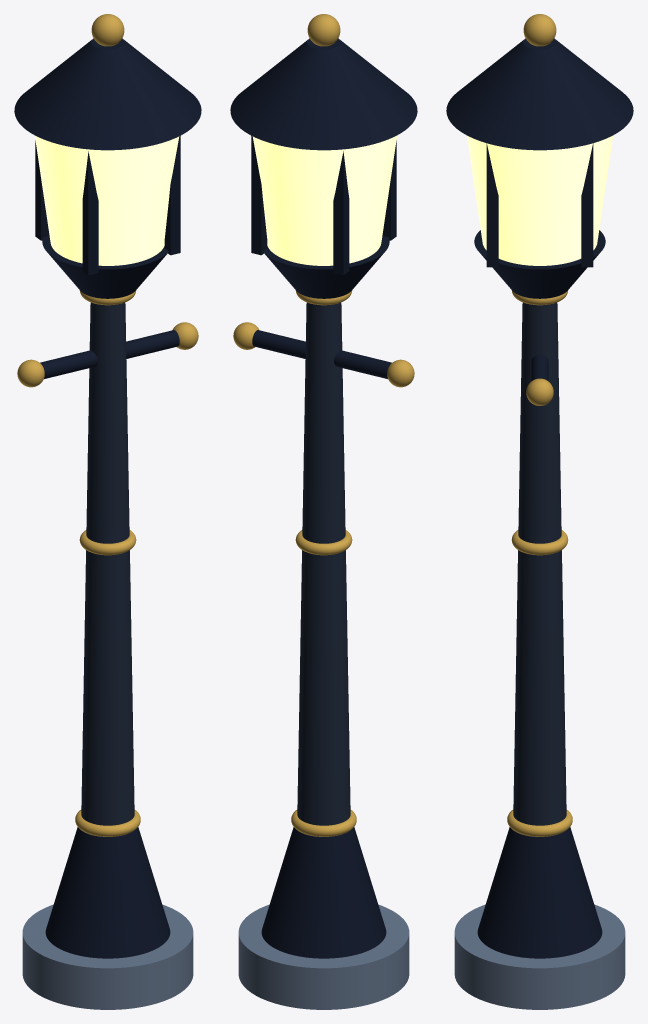
The model's file is street_lamp.glb.
3 views of the same model, side by side, from view 1: azimuth 30°, elevation 25°; view 2: azimuth 150°, elevation 25°; view 3: azimuth 270°, elevation 25° (orthographic).
Visible parts, largest first — view 1: pole, lantern_cap, lantern_glow, base, plinth, cradle, crossbar, lrib_2, lrib_3, lantern_finial, ring_0, lrib_1 (+3 smaller); view 2: pole, lantern_cap, lantern_glow, base, plinth, cradle, crossbar, lrib_1, lrib_0, lantern_finial, ring_0, lrib_2 (+3 smaller); view 3: pole, lantern_cap, lantern_glow, base, plinth, cradle, lrib_0, lrib_3, lantern_finial, ring_0, ring_1, cb_ball_R.
Boxes of the visible parts, box(x1,y1,x2,y2) form: pole: box(81, 302, 134, 825); lantern_cap: box(14, 38, 201, 150); lantern_glow: box(35, 135, 181, 265); base: box(45, 827, 170, 958); plinth: box(22, 904, 193, 1009); cradle: box(42, 236, 169, 298); crossbar: box(40, 330, 179, 378); lrib_2: box(82, 151, 98, 275); lrib_3: box(164, 136, 180, 255); lantern_finial: box(91, 14, 124, 46); ring_0: box(75, 809, 140, 836); lrib_1: box(35, 140, 49, 240); pole: box(297, 302, 350, 825); lantern_cap: box(230, 38, 417, 150); lantern_glow: box(250, 135, 396, 265); base: box(261, 827, 386, 958); plinth: box(238, 904, 409, 1009); cradle: box(262, 236, 389, 298); crossbar: box(252, 330, 391, 378); lrib_1: box(333, 151, 349, 275); lrib_0: box(251, 136, 267, 255); lantern_finial: box(307, 14, 340, 46); ring_0: box(291, 809, 356, 836); lrib_2: box(382, 140, 396, 240); pole: box(513, 302, 566, 825); lantern_cap: box(446, 38, 633, 150); lantern_glow: box(467, 135, 612, 265); base: box(477, 827, 602, 958); plinth: box(454, 904, 625, 1009); cradle: box(474, 230, 605, 298); lrib_0: box(581, 143, 593, 267); lrib_3: box(486, 143, 498, 267); lantern_finial: box(523, 14, 556, 46); ring_0: box(507, 809, 572, 836); ring_1: box(511, 530, 568, 555); cb_ball_R: box(526, 378, 553, 405).
Size of the model in its own units: 0.3119 by 1.61 by 0.285.
